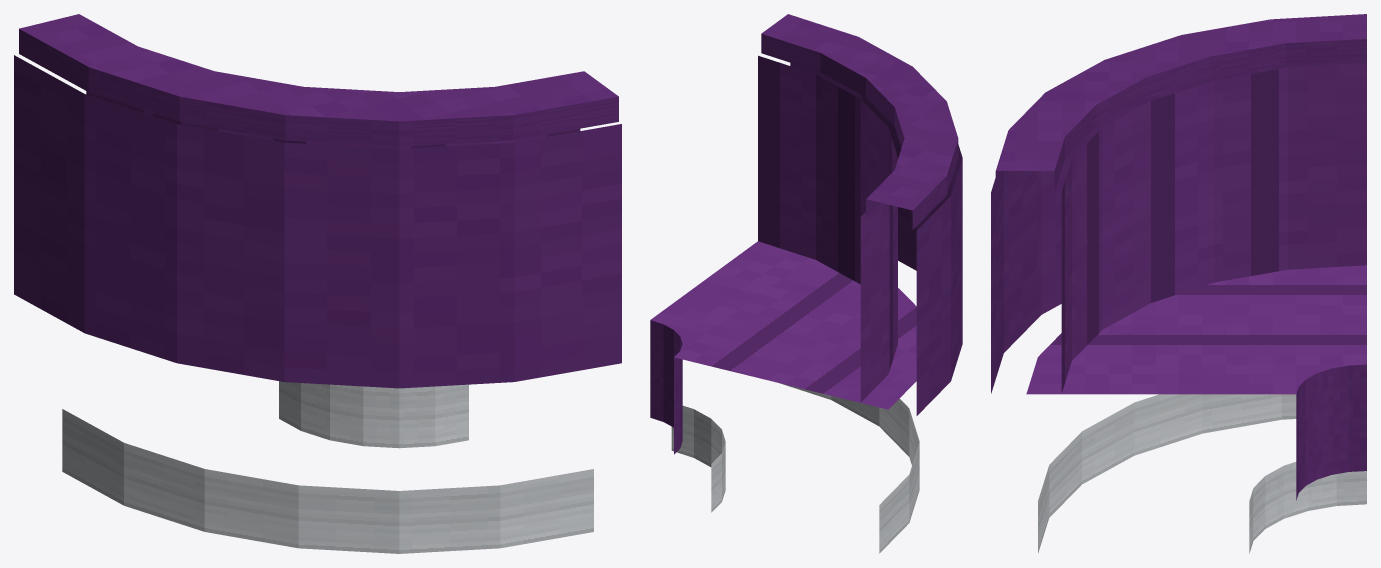
Rendered from settee_corner.obj.
3 views of the same model, side by side, from view 1: azimuth 30°, elevation 25°; view 2: azimuth 150°, elevation 25°; view 3: azimuth 270°, elevation 25° (orthographic). The views are drawn at different scales.
Visible parts, largest first — view 1: settee_corner; view 2: settee_corner; view 3: settee_corner.
Part boxes in pixels (<box>): settee_corner: <box>14,14,621,553</box>; settee_corner: <box>650,14,962,553</box>; settee_corner: <box>991,14,1366,553</box>.
Bounding box in the file's own units: 1 × 1.12 × 1.
